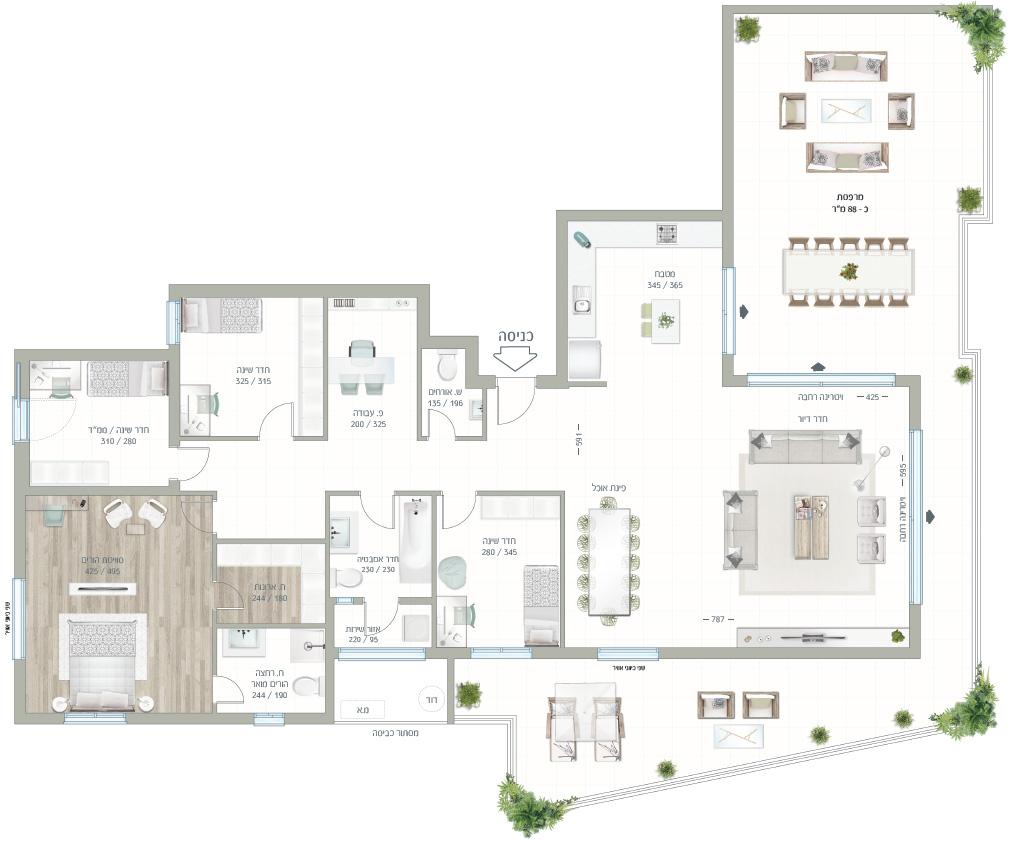door: (491, 389, 534, 429), (183, 442, 218, 485), (359, 498, 399, 532), (438, 498, 478, 532), (257, 399, 298, 432), (361, 606, 402, 639), (179, 500, 209, 535), (220, 675, 250, 710), (218, 578, 246, 614), (425, 407, 458, 437)
wall: (167, 283, 429, 297), (657, 646, 920, 658), (554, 209, 733, 223), (13, 348, 179, 360), (557, 210, 566, 387)
window: (907, 430, 921, 607), (746, 373, 894, 386), (339, 647, 425, 662), (12, 577, 25, 658), (723, 268, 735, 354), (597, 646, 659, 662), (471, 646, 532, 659), (63, 713, 125, 724), (167, 301, 180, 344), (253, 712, 284, 726)
